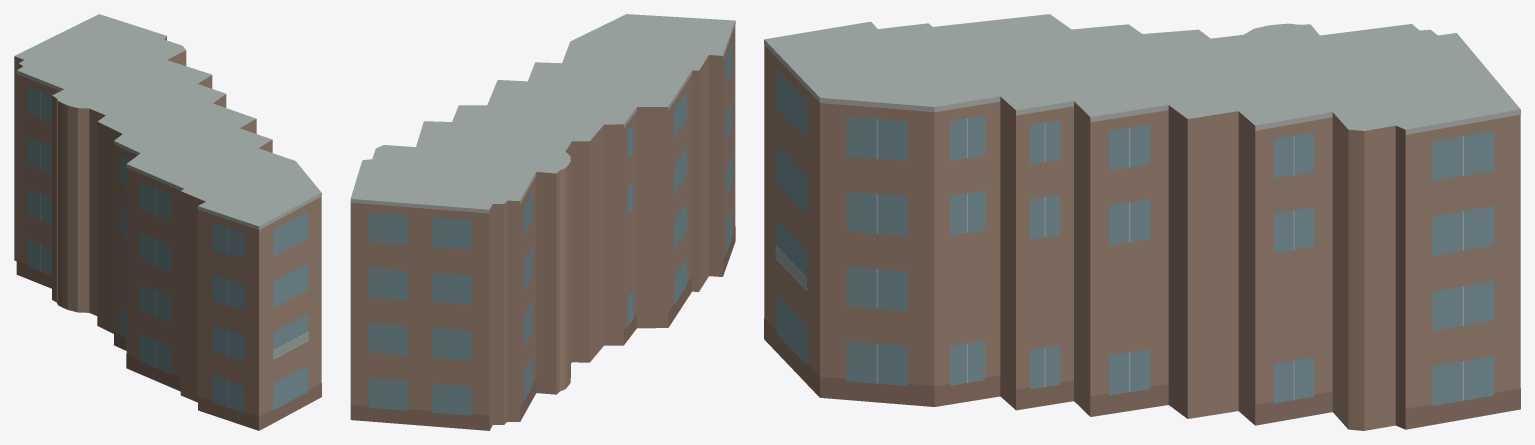
File: survey-upis-32943435.glb
3 views of the same model, side by side, from view 1: azimuth 30°, elevation 25°; view 2: azimuth 150°, elevation 25°; view 3: azimuth 270°, elevation 25° (orthographic). The views are drawn at different scales.
Parts seen in each view (by area): view 1: survey-upis-32943435.tmp; view 2: survey-upis-32943435.tmp; view 3: survey-upis-32943435.tmp.
Part boxes in pixels (x1,y1,x2,y2): survey-upis-32943435.tmp: (14, 14, 321, 430); survey-upis-32943435.tmp: (350, 14, 735, 430); survey-upis-32943435.tmp: (764, 14, 1520, 430).
Bounding box in the file's own units: 11.8 × 14.1 × 32.25.
